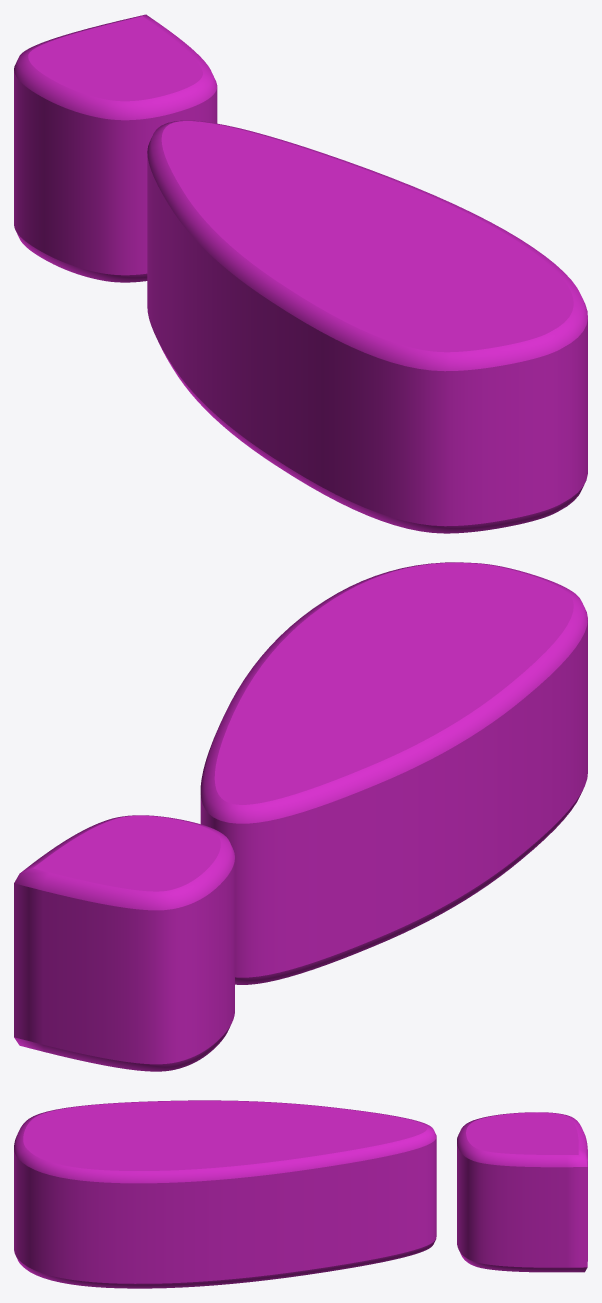
The model's file is Bubble_ExclamationMark.fbx.
3 views of the same model, one above another, from view 1: azimuth 30°, elevation 25°; view 2: azimuth 150°, elevation 25°; view 3: azimuth 270°, elevation 25° (orthographic). The views are drawn at different scales.
Visible parts, largest first — view 1: BubbleExclamationMark; view 2: BubbleExclamationMark; view 3: BubbleExclamationMark.
Part boxes in pixels (x1,y1,x2,y2): BubbleExclamationMark: [14, 14, 587, 533]; BubbleExclamationMark: [14, 562, 587, 1071]; BubbleExclamationMark: [14, 1100, 587, 1288].
Size of the model in its own units: 0.2004 by 0.14 by 0.6215.
